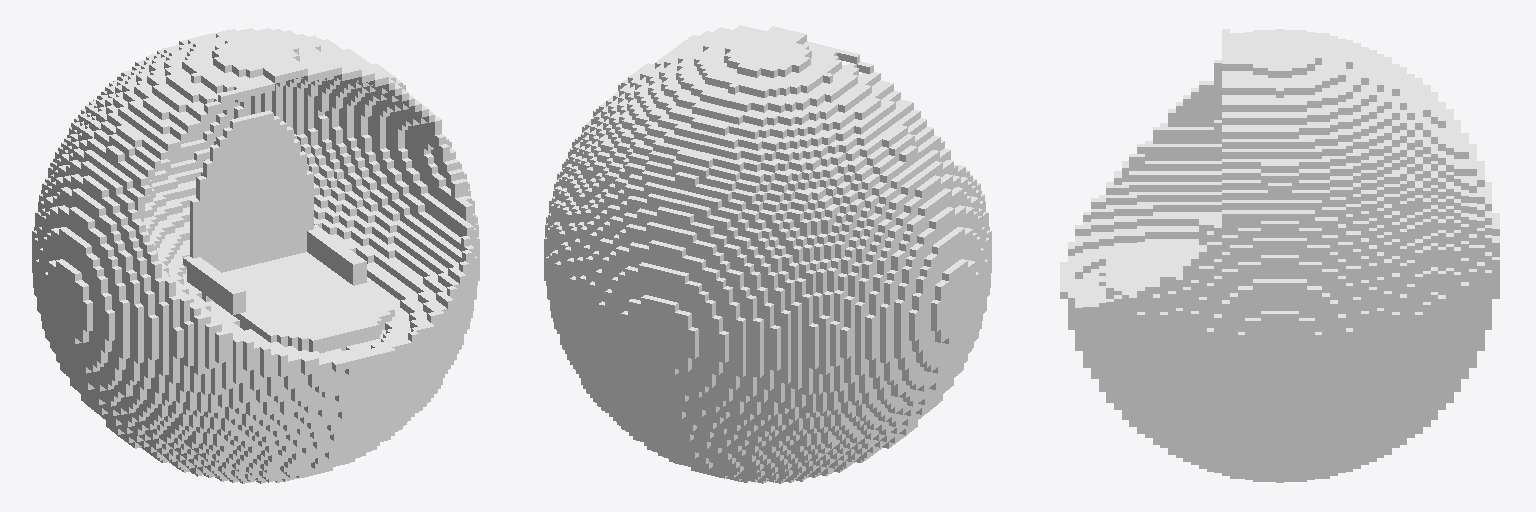
The model's file is GiroEsfera.obj.
3 views of the same model, side by side, from view 1: azimuth 30°, elevation 25°; view 2: azimuth 150°, elevation 25°; view 3: azimuth 270°, elevation 25° (orthographic).
Visible parts, largest first — view 1: GiroEsfera; view 2: GiroEsfera; view 3: GiroEsfera.
Boxes of the visible parts, <box> form: GiroEsfera: <box>32,28,479,483</box>; GiroEsfera: <box>544,25,991,483</box>; GiroEsfera: <box>1060,29,1499,482</box>.
Size of the model in its own units: 5.7 by 5.8 by 5.7.